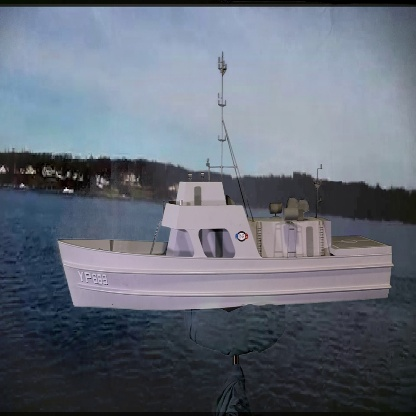YP689: (59, 54, 394, 314)
